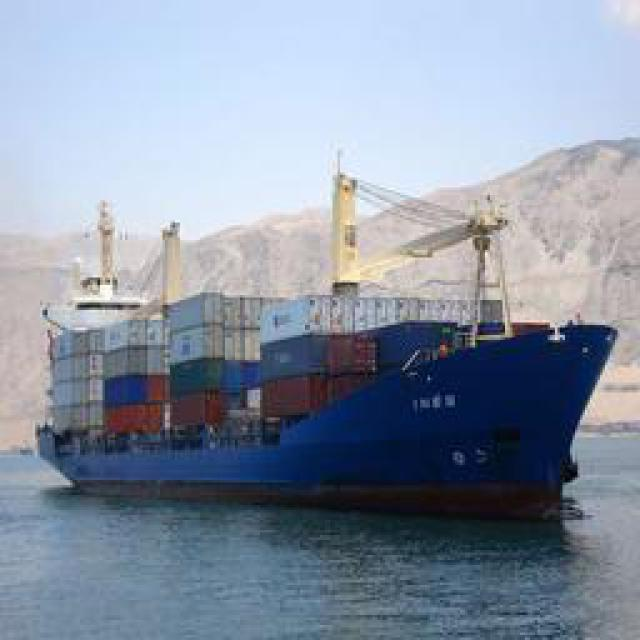Ship: (44, 303, 624, 521)
